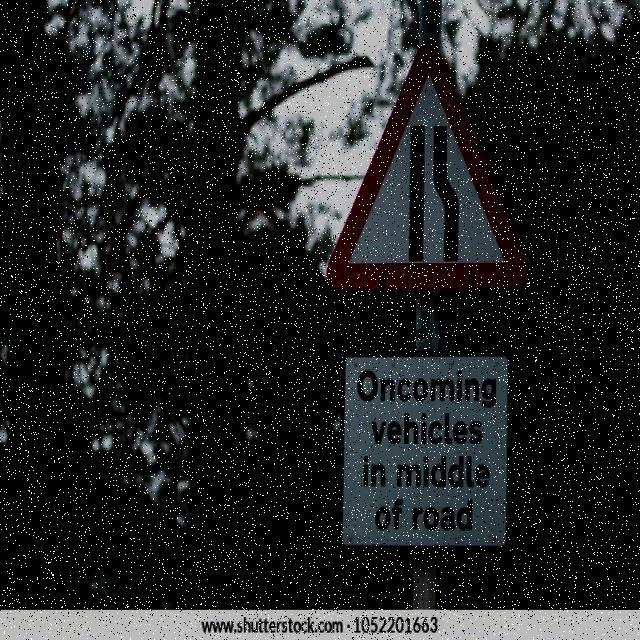Traffic sign: (325, 43, 530, 559)
